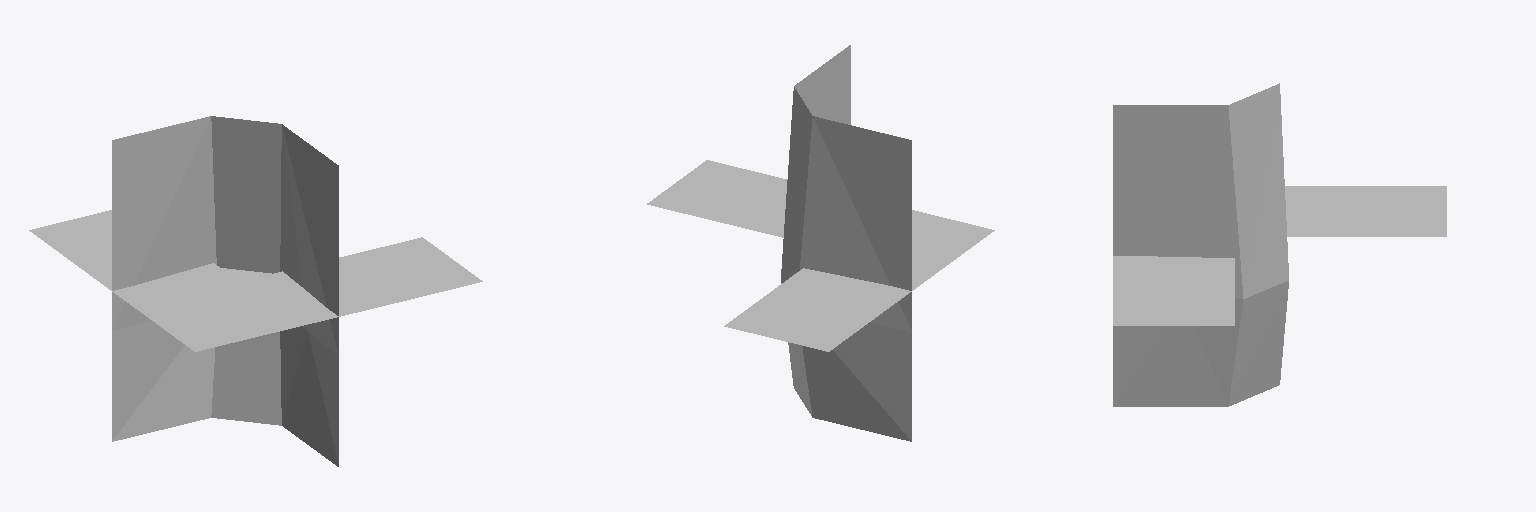
File: wfc_module_17.obj
3 views of the same model, side by side, from view 1: azimuth 30°, elevation 25°; view 2: azimuth 150°, elevation 25°; view 3: azimuth 270°, elevation 25° (orthographic).
Bounding box in the file's own units: 1 × 1 × 1.